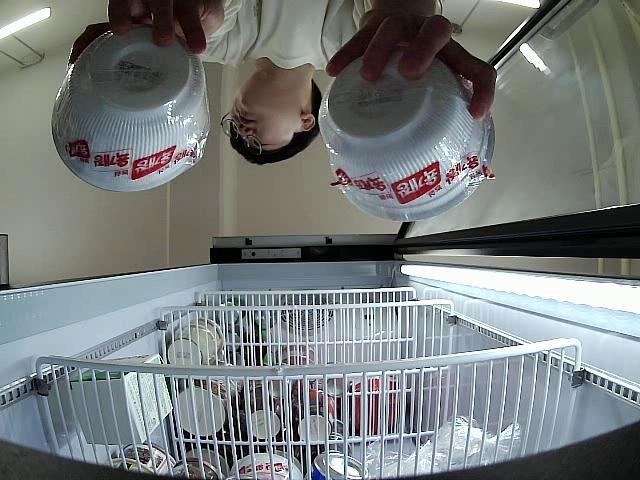00_hand: (325, 3, 497, 121), (65, 0, 224, 75)
09_yukGaeJang: (319, 50, 495, 221), (51, 25, 210, 193)
